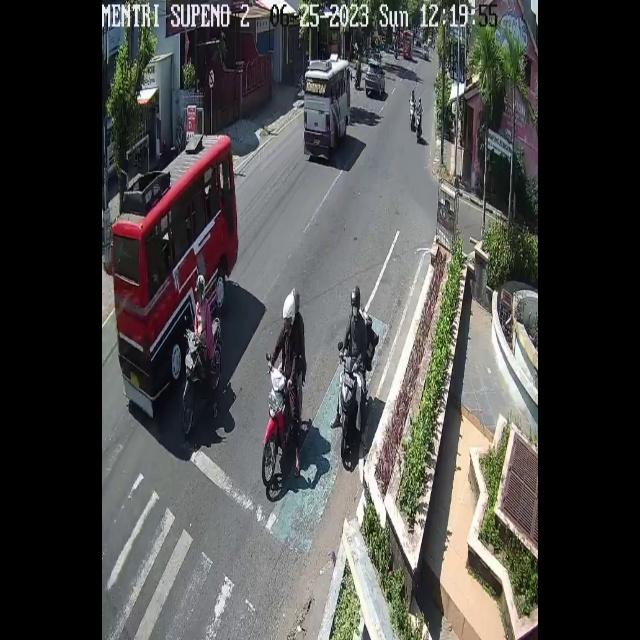bus: (182, 316, 224, 436), (262, 366, 290, 491), (339, 354, 363, 462), (408, 99, 416, 129), (416, 108, 422, 143)
car: (112, 134, 238, 418), (304, 53, 351, 158)
motorcycle: (365, 62, 386, 98)
